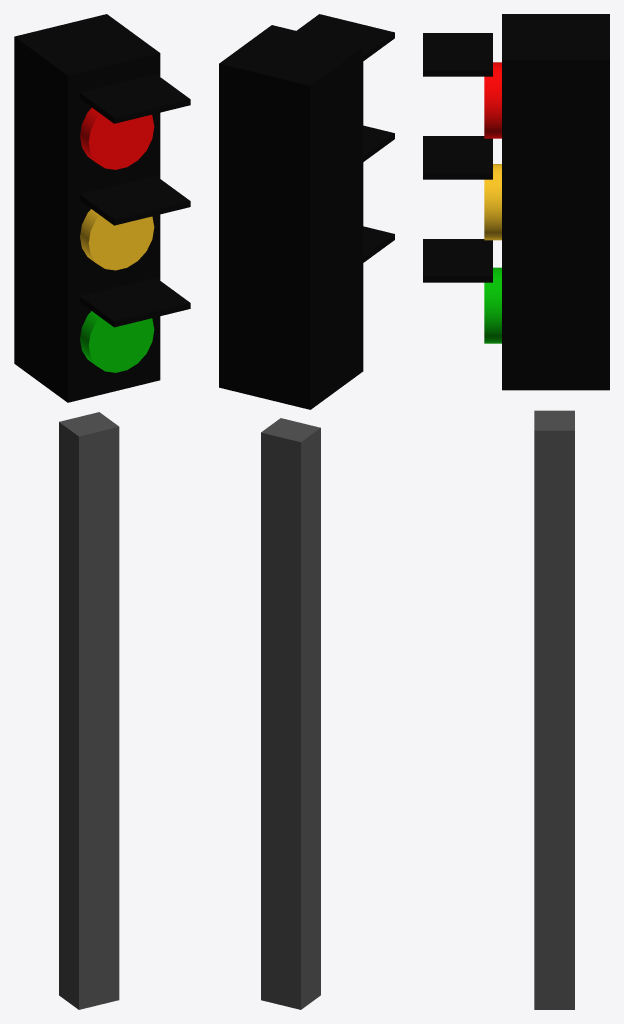
Rendered from traffic_light_01.obj.
3 views of the same model, side by side, from view 1: azimuth 30°, elevation 25°; view 2: azimuth 150°, elevation 25°; view 3: azimuth 270°, elevation 25° (orthographic). The views are drawn at different scales.
Parts seen in each view (by area): view 1: Box02, Box01, Box03, Box05, Box04, Cylinder01, Cylinder03, Cylinder02; view 2: Box02, Box01, Box03, Box05, Box04; view 3: Box02, Box01, Box03, Box05, Box04, Cylinder01, Cylinder02, Cylinder03.
Boxes of the visible parts, x1=… form: Box02: x1=14, y1=14, x2=160, y2=402; Box01: x1=59, y1=412, x2=119, y2=1009; Box03: x1=79, y1=74, x2=190, y2=123; Box05: x1=79, y1=277, x2=190, y2=327; Box04: x1=79, y1=175, x2=190, y2=225; Cylinder01: x1=80, y1=108, x2=154, y2=169; Cylinder03: x1=80, y1=311, x2=154, y2=372; Cylinder02: x1=80, y1=209, x2=154, y2=270; Box02: x1=219, y1=25, x2=363, y2=409; Box01: x1=261, y1=418, x2=320, y2=1009; Box03: x1=296, y1=14, x2=394, y2=60; Box05: x1=363, y1=226, x2=394, y2=262; Box04: x1=363, y1=125, x2=394, y2=161; Box02: x1=502, y1=14, x2=609, y2=390; Box01: x1=534, y1=410, x2=574, y2=1009; Box03: x1=423, y1=33, x2=492, y2=76; Box05: x1=423, y1=239, x2=492, y2=282; Box04: x1=423, y1=136, x2=492, y2=179; Cylinder01: x1=484, y1=62, x2=501, y2=138; Cylinder02: x1=484, y1=164, x2=501, y2=240; Cylinder03: x1=484, y1=267, x2=501, y2=343.
Bounding box in the file's own units: 0.5211 × 5.13 × 0.903.
